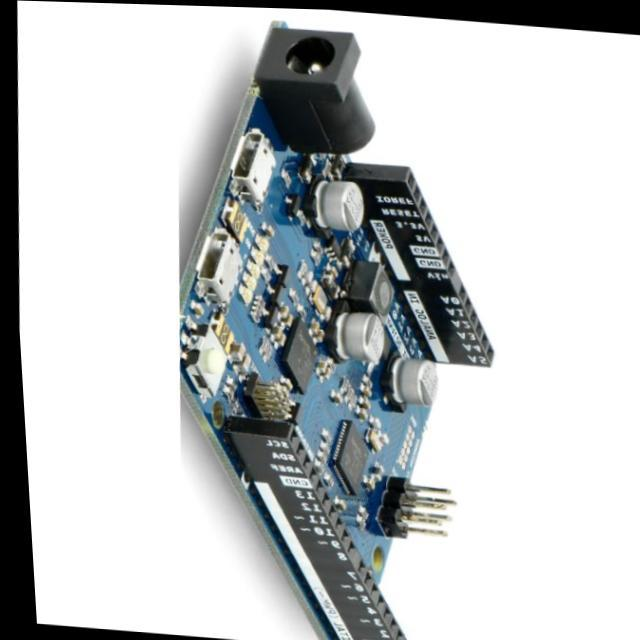Arduino-Zero: (181, 25, 494, 640)
